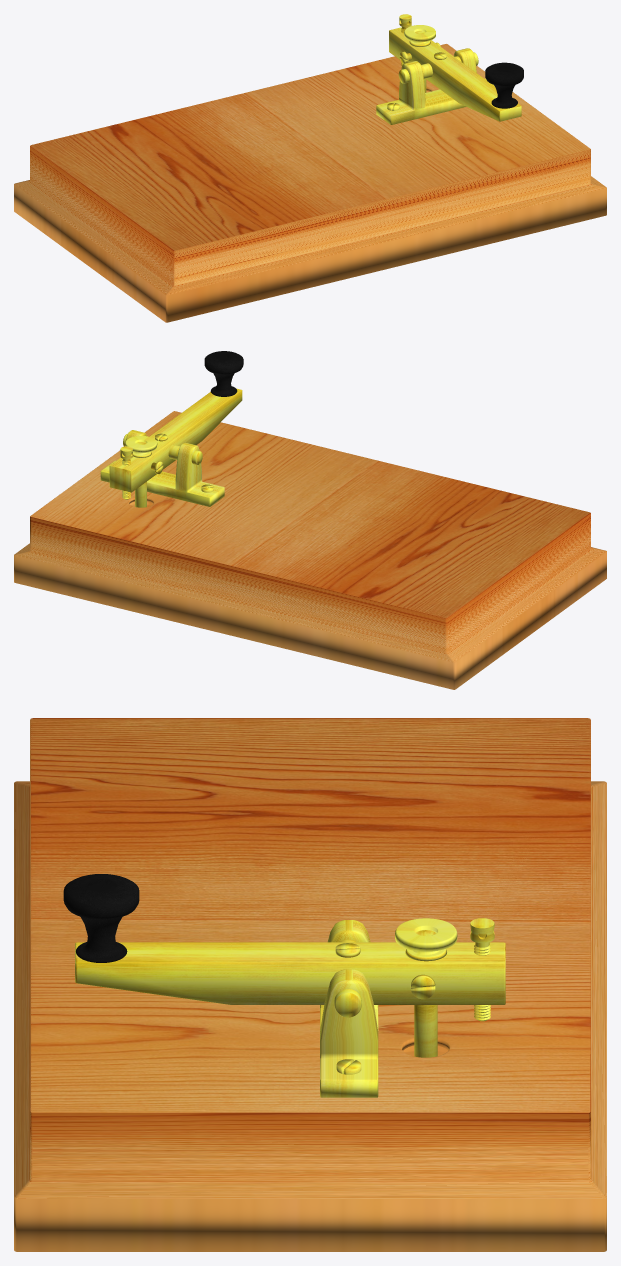
File: MorseMachine.fbx
3 renders of one model, top to bottom at view 1: azimuth 30°, elevation 25°; view 2: azimuth 150°, elevation 25°; view 3: azimuth 270°, elevation 25°, orthographic. The views are drawn at different scales.
Parts seen in each view (by area): view 1: Pedestal, RubberButton, StrutBase, Cylinder; view 2: Pedestal, RubberButton, StrutBase, Cylinder; view 3: Pedestal, RubberButton, StrutBase, Cylinder, Cylinder.001, Cylinder.002.
Part boxes in pixels (x1=…): Pedestal: x1=14, y1=44, x2=606, y2=322; RubberButton: x1=389, y1=25, x2=523, y2=121; StrutBase: x1=376, y1=48, x2=494, y2=124; Cylinder: x1=404, y1=25, x2=435, y2=46; Pedestal: x1=14, y1=411, x2=606, y2=689; RubberButton: x1=109, y1=351, x2=243, y2=492; StrutBase: x1=100, y1=430, x2=224, y2=506; Cylinder: x1=125, y1=436, x2=157, y2=457; Pedestal: x1=14, y1=718, x2=606, y2=1251; RubberButton: x1=63, y1=874, x2=505, y2=1004; StrutBase: x1=320, y1=920, x2=378, y2=1097; Cylinder: x1=395, y1=918, x2=457, y2=961; Cylinder.001: x1=414, y1=1005, x2=437, y2=1057; Cylinder.002: x1=470, y1=918, x2=494, y2=1021.
Bounding box in the file's own units: 871 × 282 × 522.
Materials: 7 (7 with a texture image).
